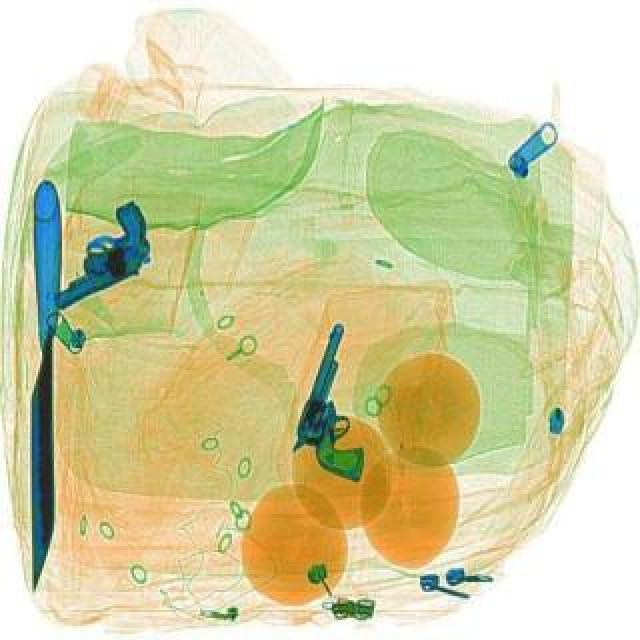gun: (282, 318, 406, 482), (22, 196, 168, 308)
knife: (30, 178, 62, 592)
